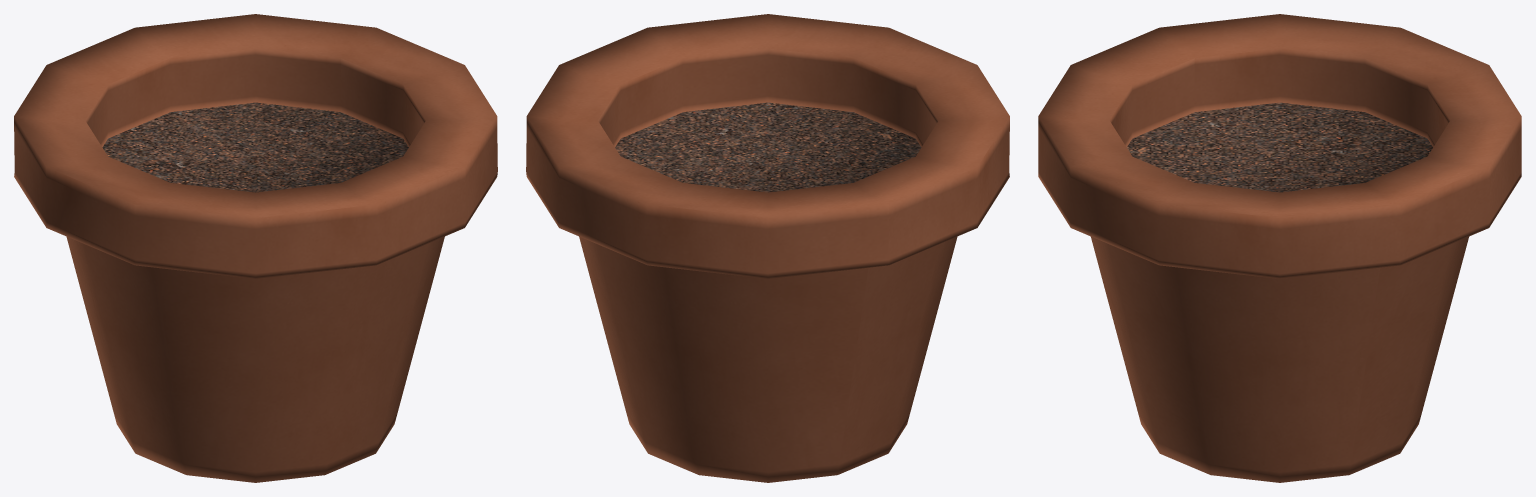
The model's file is plant.pot.fbx.
3 renders of one model, left to right at view 1: azimuth 30°, elevation 25°; view 2: azimuth 150°, elevation 25°; view 3: azimuth 270°, elevation 25°, orthographic.
Parts seen in each view (by area): view 1: Cylinder; view 2: Cylinder; view 3: Cylinder.
Part boxes in pixels (x1,y1,x2,y2): Cylinder: (14, 14, 497, 482); Cylinder: (526, 14, 1009, 482); Cylinder: (1038, 14, 1521, 482).
Size of the model in its own units: 13.94 by 9.79 by 13.91.
2 materials, 2 textured.
